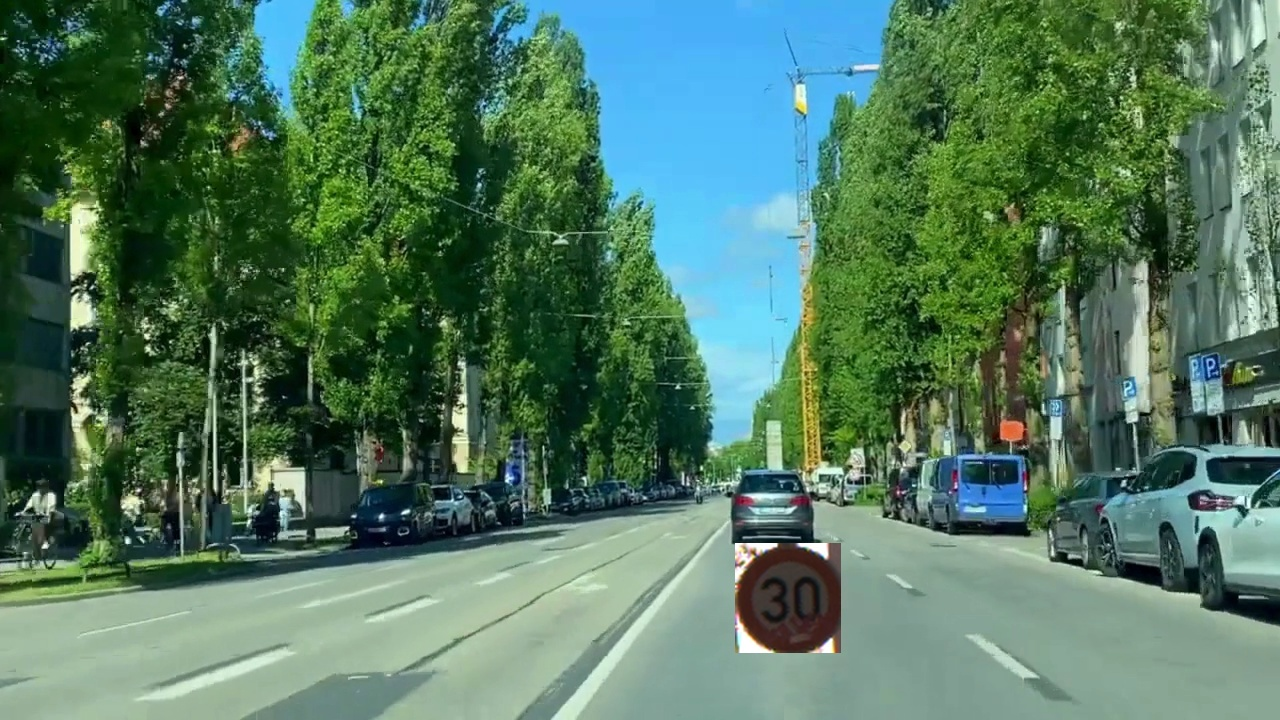Speed 30: (735, 543, 841, 653)
